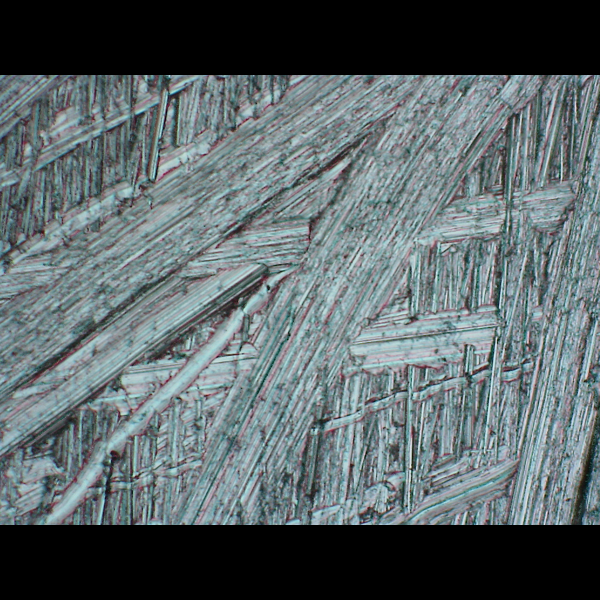d: (4, 77, 600, 524)
